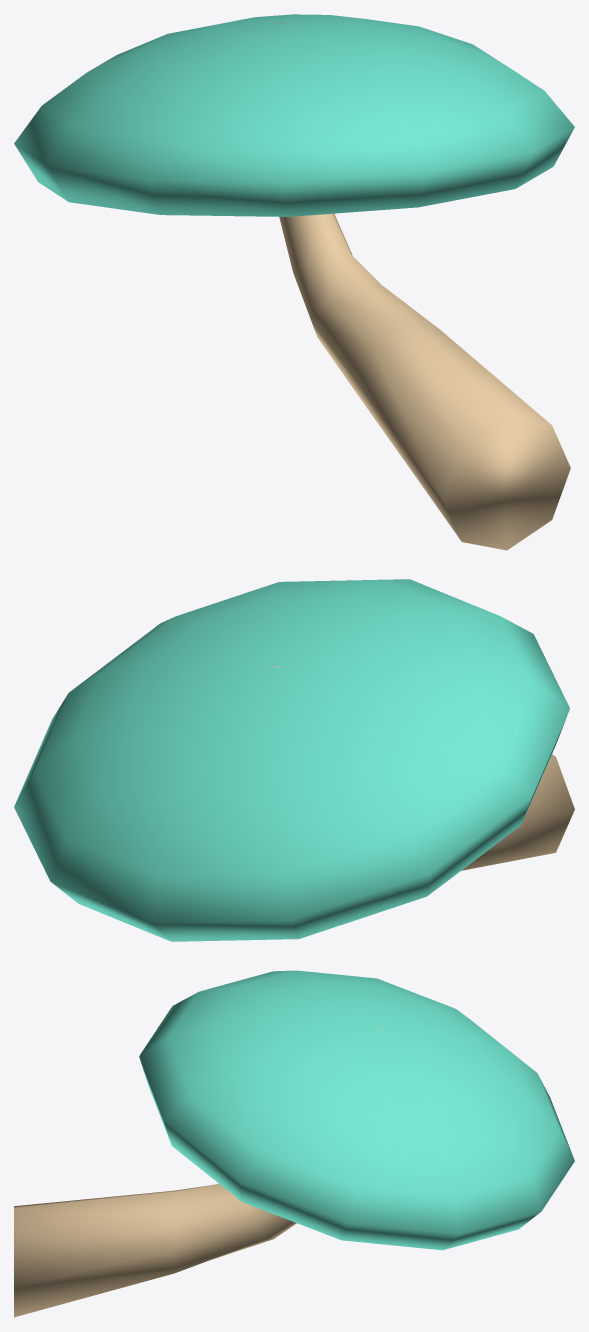
The model's file is ShroomWall_1.fbx.
3 views of the same model, one above another, from view 1: azimuth 30°, elevation 25°; view 2: azimuth 150°, elevation 25°; view 3: azimuth 270°, elevation 25° (orthographic). The views are drawn at different scales.
Parts seen in each view (by area): view 1: ShroomWall_1; view 2: ShroomWall_1; view 3: ShroomWall_1.
Part boxes in pixels (left/top/right/bottom): ShroomWall_1: left=14, top=14, right=574, bottom=550; ShroomWall_1: left=14, top=579, right=574, bottom=941; ShroomWall_1: left=14, top=970, right=574, bottom=1317.
Size of the model in its own units: 263 by 195 by 329.
